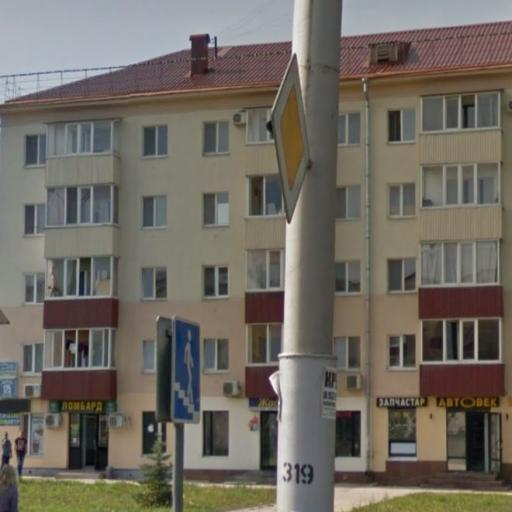traffic_sign: (269, 55, 312, 227)
